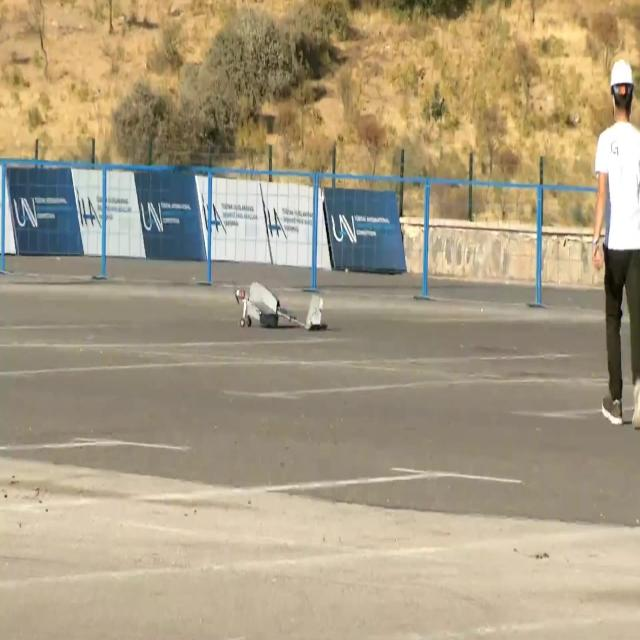iha: (266, 281, 297, 332)
